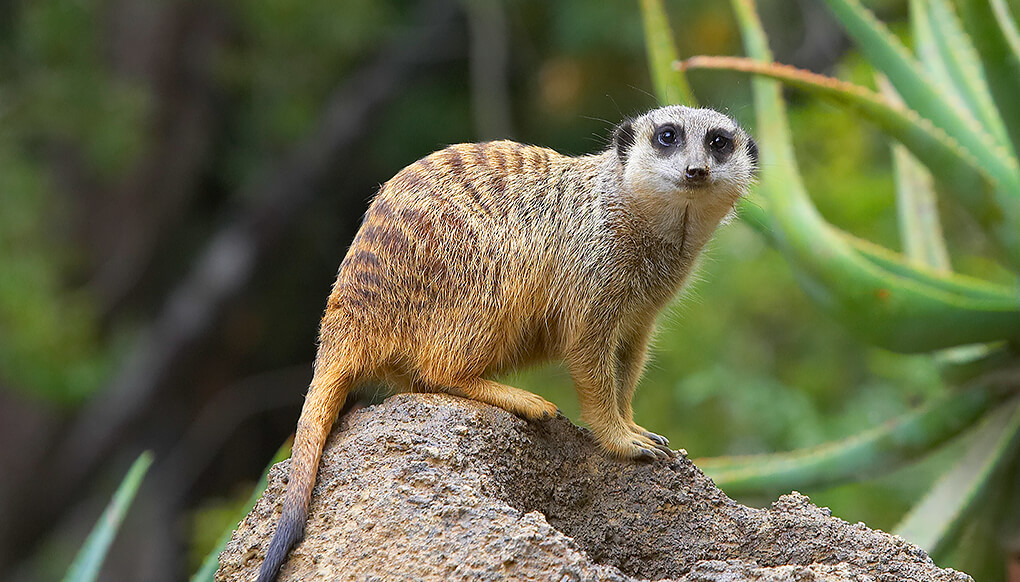meerkat: (244, 73, 764, 582)
